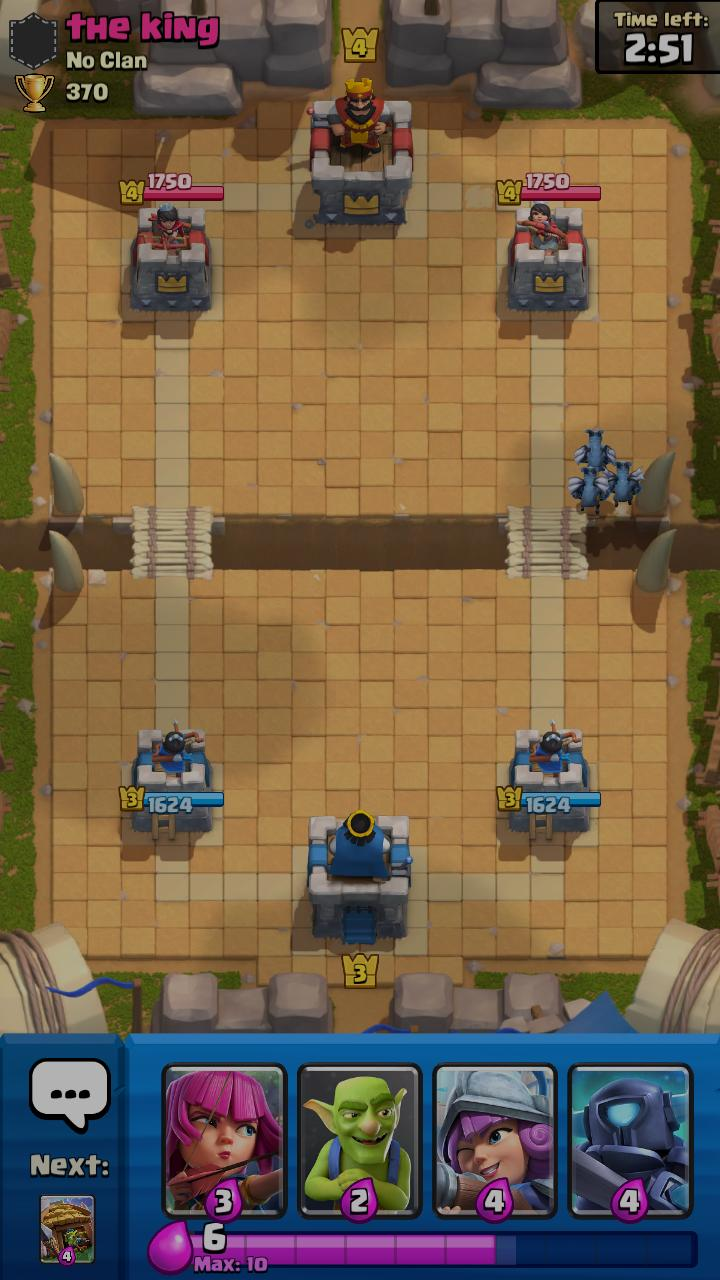ally: (567, 466, 610, 516), (602, 461, 645, 508), (574, 429, 617, 473)
